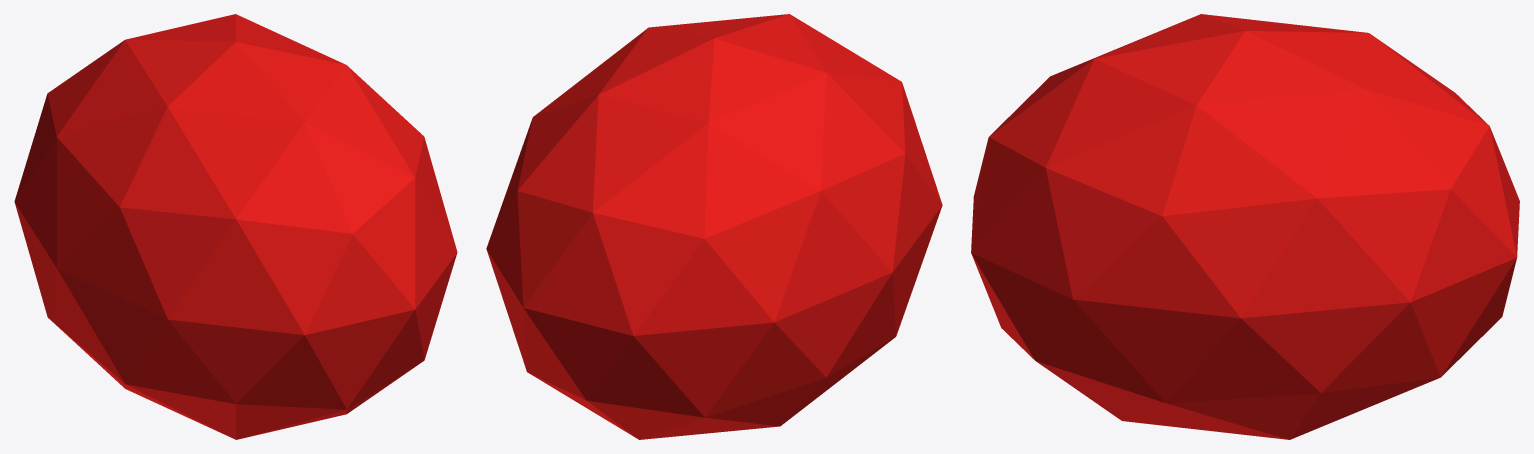
The model's file is PlayerReator.fbx.
3 renders of one model, left to right at view 1: azimuth 30°, elevation 25°; view 2: azimuth 150°, elevation 25°; view 3: azimuth 270°, elevation 25°, orthographic. The views are drawn at different scales.
Visible parts, largest first — view 1: Icosphere; view 2: Icosphere; view 3: Icosphere.
Boxes of the visible parts, x1,y1,x2,y2 form: Icosphere: (14,14,457,439); Icosphere: (486,14,942,439); Icosphere: (971,14,1519,439).
Bounding box in the file's own units: 85.4 × 67.35 × 67.33.
